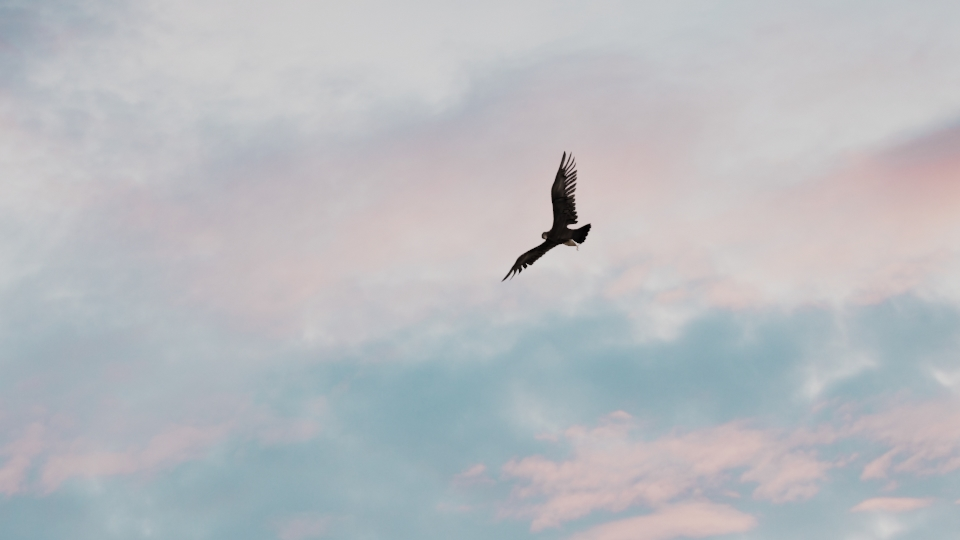bird: (507, 147, 591, 279)
